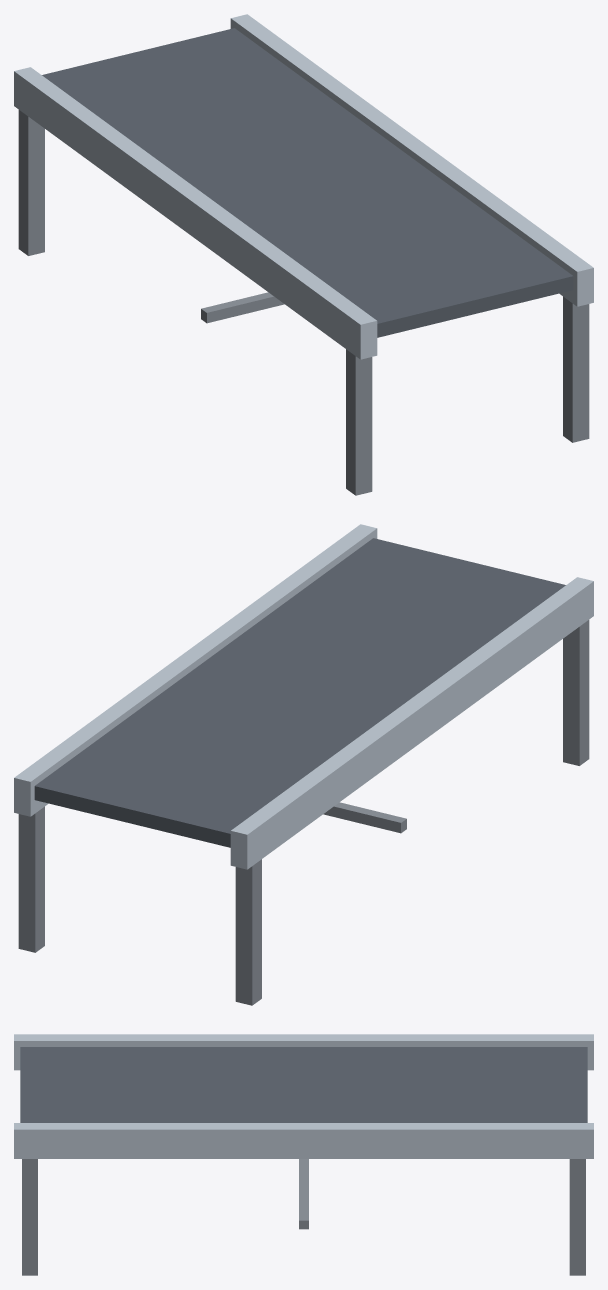
File: belt_conveyor.glb
3 renders of one model, top to bottom at view 1: azimuth 30°, elevation 25°; view 2: azimuth 150°, elevation 25°; view 3: azimuth 270°, elevation 25°, orthographic. The views are drawn at different scales.
Visible parts, largest first — view 1: Belt, Frame_L, Frame_R, Leg_FR, Leg_FL, Leg_BL, Cross_Mid; view 2: Belt, Frame_L, Frame_R, Leg_BR, Leg_BL, Leg_FL, Cross_Mid; view 3: Belt, Frame_R, Frame_L, Leg_BR, Leg_FR, Cross_Mid.
Boxes of the visible parts, x1,y1,x2,y2 form: Belt: (42,28,573,337); Frame_L: (14,67,377,359); Frame_R: (230,14,593,306); Leg_FR: (563,296,589,442); Leg_FL: (346,349,372,495); Leg_BL: (18,110,44,255); Cross_Mid: (201,292,284,323); Belt: (34,538,565,847); Frame_L: (230,577,593,869); Frame_R: (14,524,377,816); Leg_BR: (18,806,44,952); Leg_BL: (235,859,261,1005); Leg_FL: (563,620,589,765); Cross_Mid: (323,802,406,833); Belt: (20,1047,587,1122); Frame_R: (14,1123,593,1158); Frame_L: (14,1034,593,1070); Leg_BR: (569,1159,585,1275); Leg_FR: (22,1159,37,1275); Cross_Mid: (299,1159,308,1229).
Bounding box in the file's own units: 0.7 × 0.5 × 1.8.
